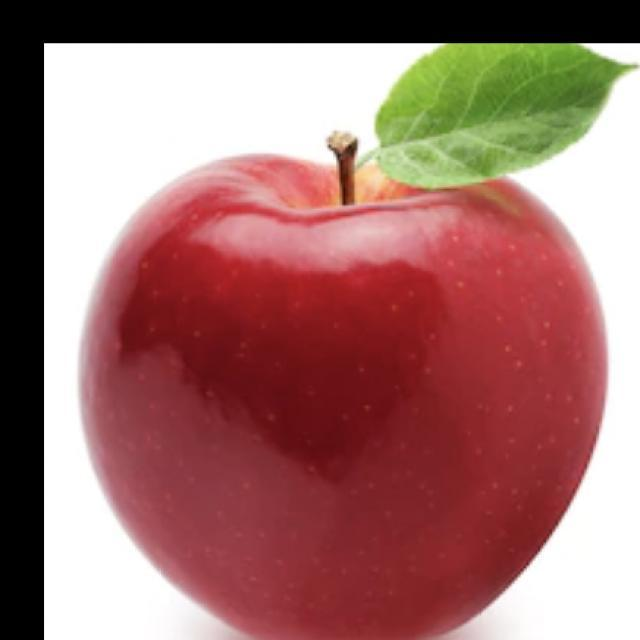Fresh Apple: (72, 142, 616, 640)
